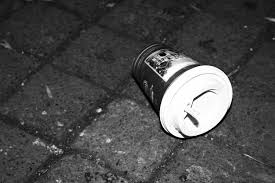paper: (119, 39, 238, 145)
